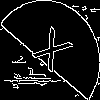X: (25, 25, 73, 82)
